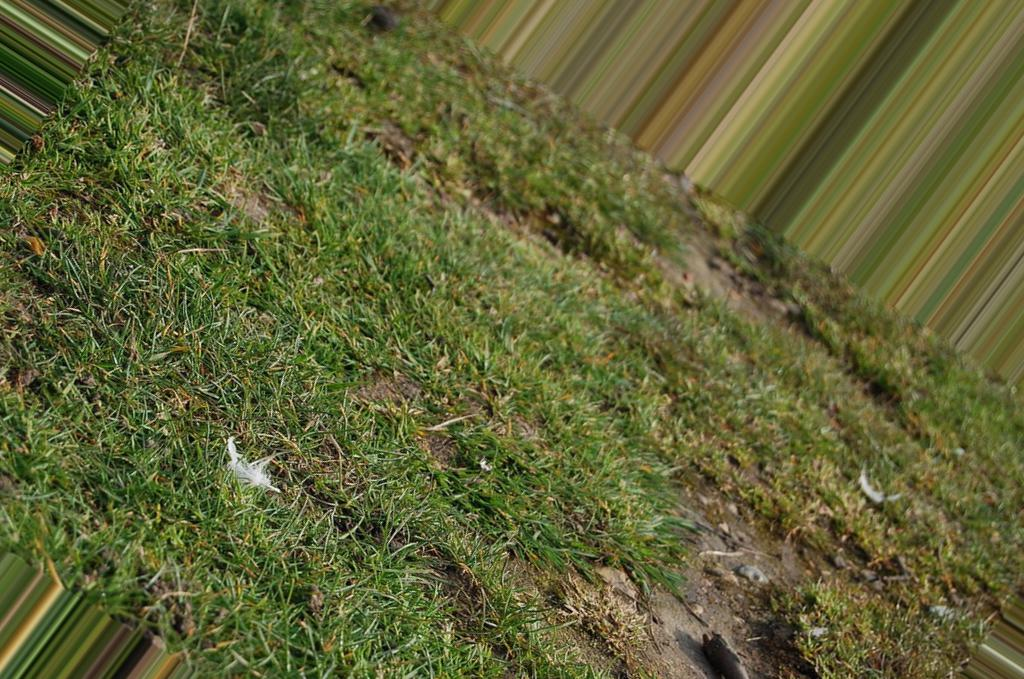patch: (389, 109, 560, 238), (669, 487, 750, 666), (505, 541, 616, 656), (653, 228, 763, 330), (337, 376, 468, 452), (207, 124, 289, 232)
